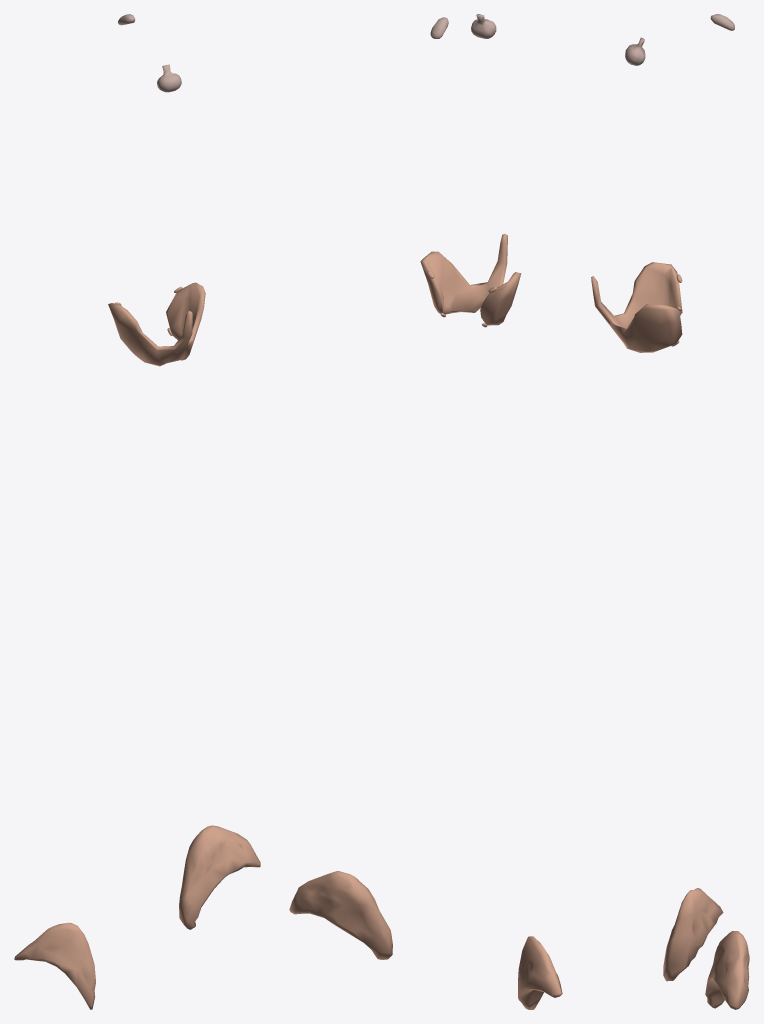
The model's file is adult_male.endocrine.LOD2.glb.
The picture shows the model from 3 angles, left to right: view 1: azimuth 30°, elevation 25°; view 2: azimuth 150°, elevation 25°; view 3: azimuth 270°, elevation 25°; orthographic projection. The views are drawn at different scales.
Parts seen in each view (by area): view 1: ADULT.MALE.ENDOCRINE.SUPRARENAL_GLAND.L, ADULT.MALE.ENDOCRINE.THYROID_GLAND, ADULT.MALE.ENDOCRINE.SUPRARENAL_GLAND.R; view 2: ADULT.MALE.ENDOCRINE.SUPRARENAL_GLAND.L, ADULT.MALE.ENDOCRINE.THYROID_GLAND, ADULT.MALE.ENDOCRINE.SUPRARENAL_GLAND.R; view 3: ADULT.MALE.ENDOCRINE.THYROID_GLAND, ADULT.MALE.ENDOCRINE.SUPRARENAL_GLAND.R, ADULT.MALE.ENDOCRINE.SUPRARENAL_GLAND.L.
Boxes of the visible parts, bbox=[...] form: ADULT.MALE.ENDOCRINE.SUPRARENAL_GLAND.L: bbox=[179, 825, 260, 929]; ADULT.MALE.ENDOCRINE.THYROID_GLAND: bbox=[108, 282, 205, 366]; ADULT.MALE.ENDOCRINE.SUPRARENAL_GLAND.R: bbox=[14, 922, 95, 1009]; ADULT.MALE.ENDOCRINE.SUPRARENAL_GLAND.L: bbox=[289, 871, 392, 959]; ADULT.MALE.ENDOCRINE.THYROID_GLAND: bbox=[420, 233, 521, 325]; ADULT.MALE.ENDOCRINE.SUPRARENAL_GLAND.R: bbox=[518, 936, 562, 1009]; ADULT.MALE.ENDOCRINE.THYROID_GLAND: bbox=[591, 262, 682, 352]; ADULT.MALE.ENDOCRINE.SUPRARENAL_GLAND.R: bbox=[663, 888, 723, 981]; ADULT.MALE.ENDOCRINE.SUPRARENAL_GLAND.L: bbox=[705, 931, 749, 1009].
Bounding box in the file's own units: 0.138 × 0.4994 × 0.072.
